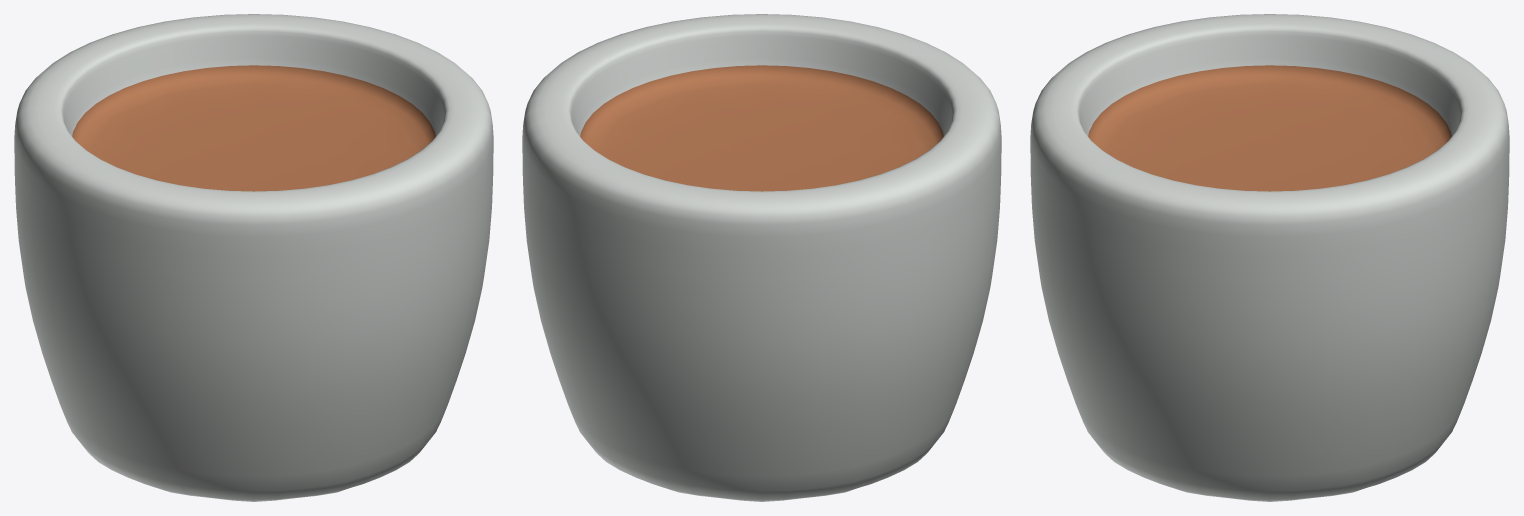
3 renders of one model, left to right at view 1: azimuth 30°, elevation 25°; view 2: azimuth 150°, elevation 25°; view 3: azimuth 270°, elevation 25°, orthographic.
Visible parts, largest first — view 1: pot; view 2: pot; view 3: pot.
Boxes of the visible parts, x1,y1,x2,y2 form: pot: (14,14,493,501); pot: (522,14,1001,501); pot: (1030,14,1509,501).
Size of the model in its own units: 13.52 by 10.41 by 13.52.
